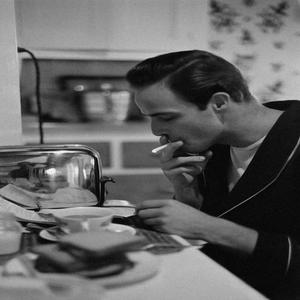cigarette: (149, 142, 174, 157)
